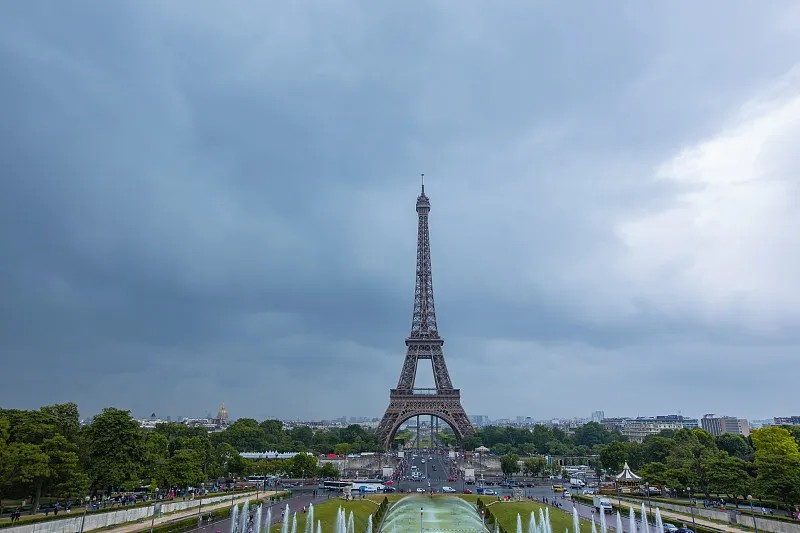Eiffel: (373, 174, 476, 452)
